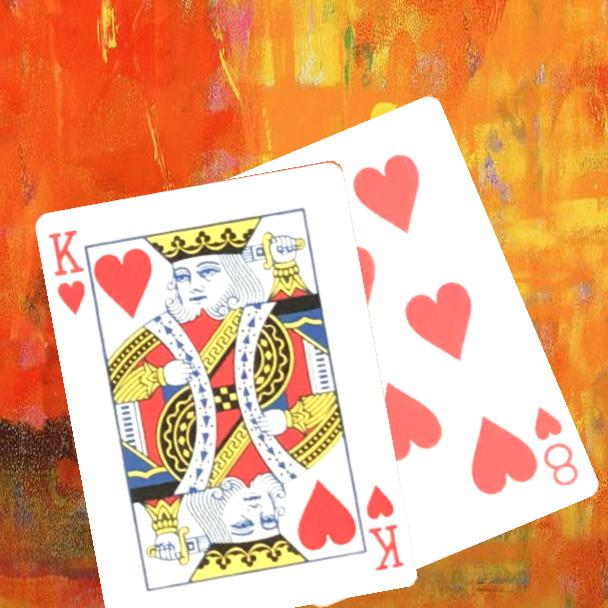h08: (529, 402, 581, 489)
h13: (361, 480, 406, 574), (44, 225, 88, 318)
